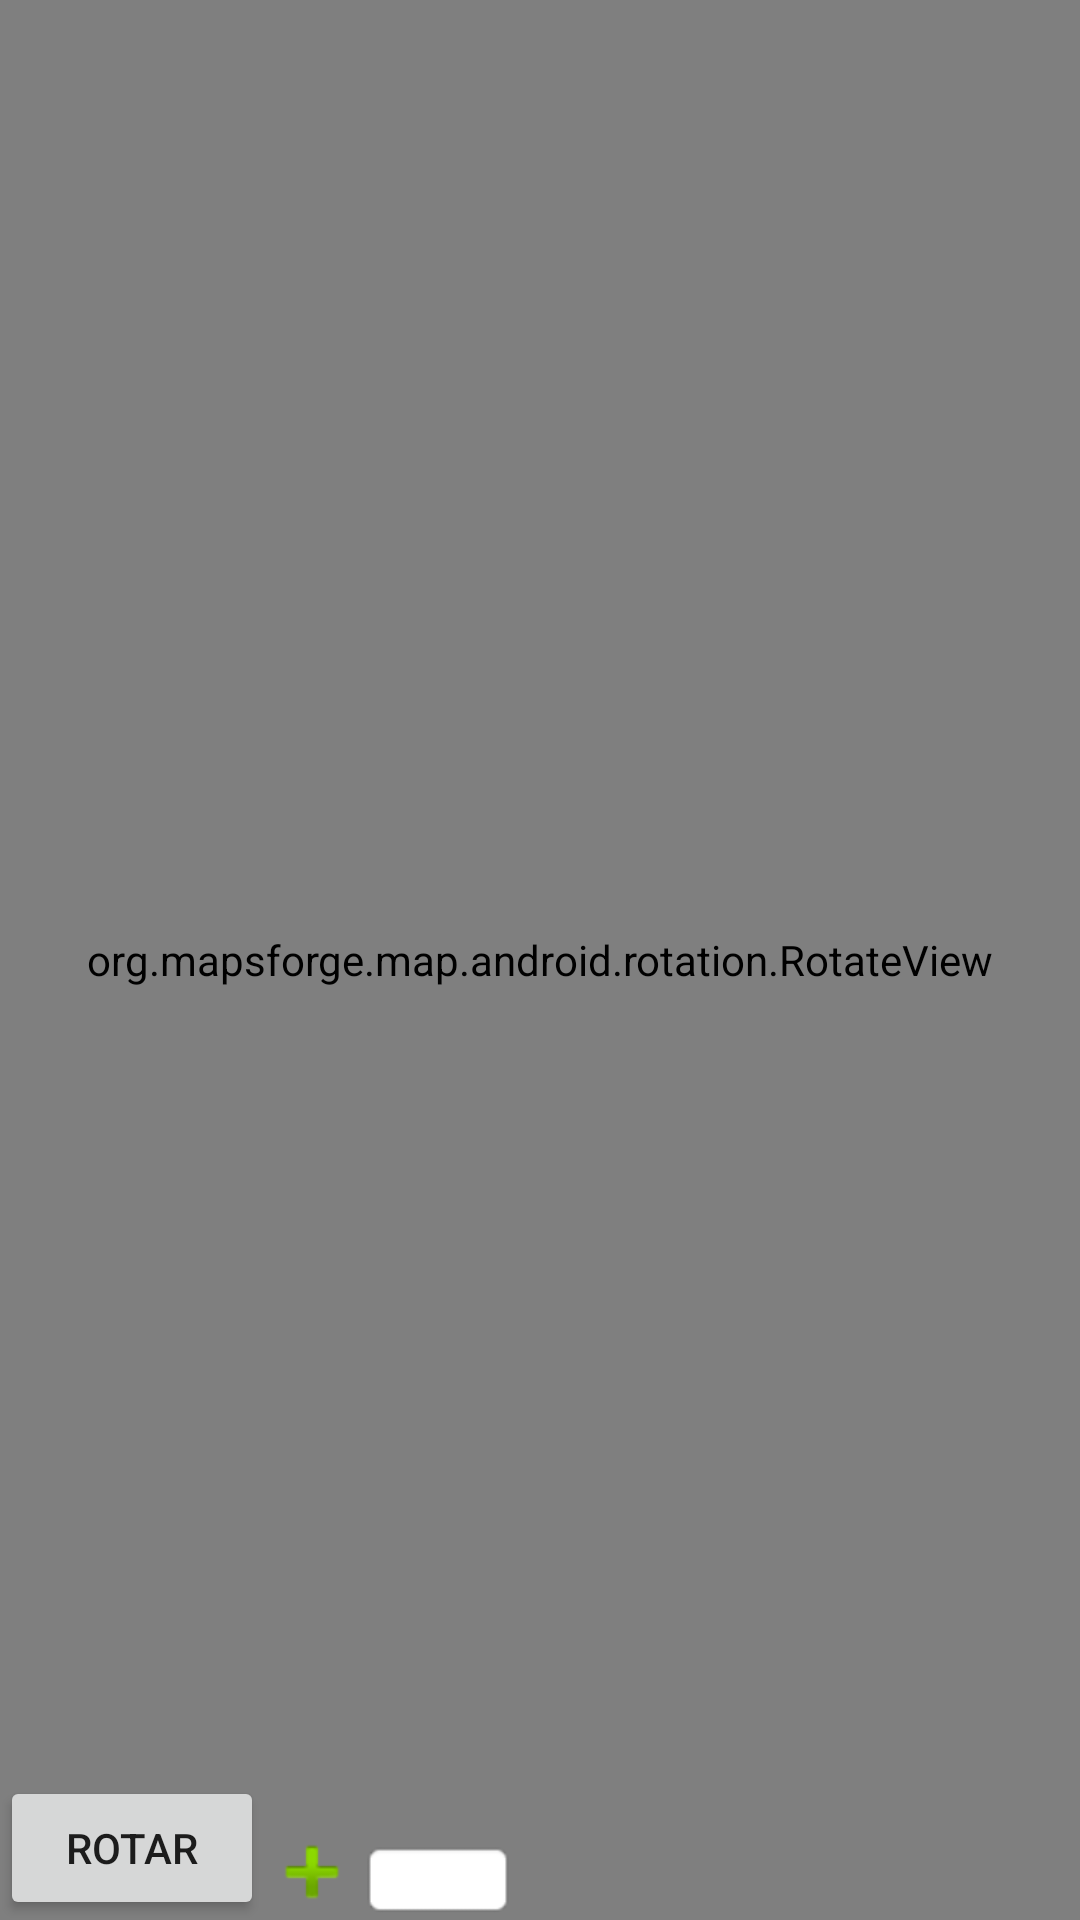

Named icons in this screenshot (1080px x 1920px) and their centers, point (x, y):
add: point (312, 1871)
